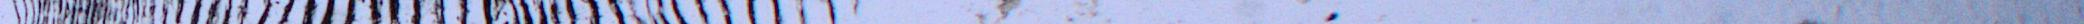circulus: (279, 1, 298, 24), (607, 1, 626, 24), (630, 1, 649, 24), (258, 1, 275, 24), (303, 1, 320, 24), (207, 1, 223, 24), (322, 1, 338, 24), (369, 1, 385, 24), (586, 1, 602, 24), (673, 1, 688, 24), (719, 1, 735, 24), (389, 1, 404, 24), (521, 1, 536, 24), (565, 1, 579, 24), (657, 1, 671, 24), (695, 1, 710, 23), (191, 1, 205, 24), (223, 1, 237, 24), (238, 1, 251, 24), (346, 1, 359, 24), (412, 1, 425, 24), (435, 1, 448, 24), (645, 1, 658, 24), (175, 1, 187, 24), (484, 1, 496, 24), (510, 1, 522, 24), (537, 1, 549, 24), (552, 1, 564, 24), (13, 1, 24, 24), (460, 1, 470, 24), (747, 1, 758, 24), (772, 1, 783, 24), (828, 1, 839, 24), (852, 1, 863, 24), (85, 1, 94, 24), (90, 1, 100, 24), (97, 1, 106, 24), (102, 1, 112, 24), (799, 1, 808, 24), (31, 1, 39, 24), (64, 1, 72, 24), (70, 1, 78, 24), (77, 1, 85, 24), (108, 1, 116, 24), (125, 1, 133, 24), (132, 1, 140, 24), (136, 1, 144, 24), (142, 1, 150, 24), (150, 1, 158, 24), (163, 1, 171, 24), (24, 1, 31, 24), (43, 1, 49, 24), (47, 1, 53, 24), (58, 1, 65, 24), (114, 1, 121, 24), (121, 1, 128, 24), (39, 1, 44, 24), (53, 1, 58, 24)
